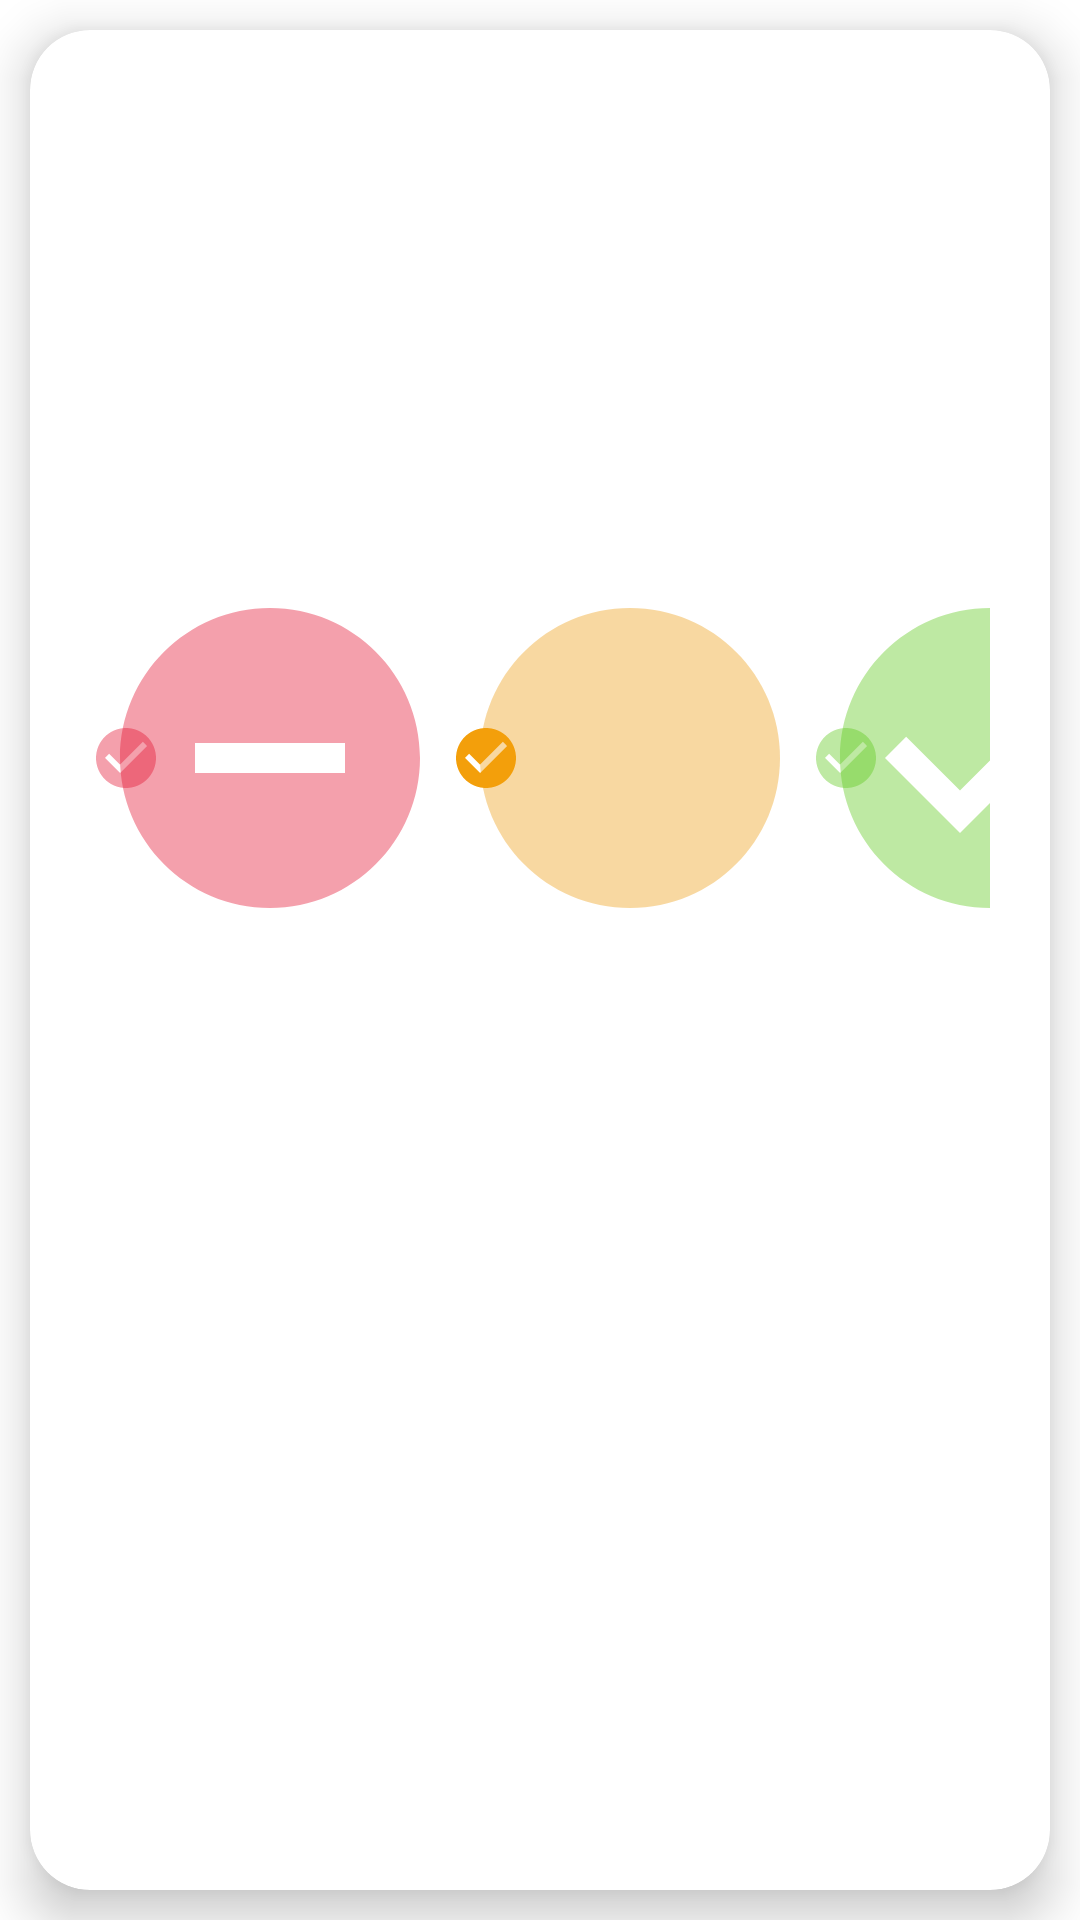

Locate icon controls on the screen. Image size 1080px×1920px, boxes as (x1, y1, x2, y2).
check half: (96, 608, 420, 908)
